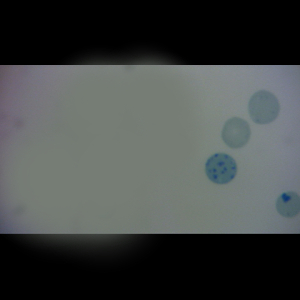aggregate reticulocyte: (204, 152, 239, 186)
erythrocyte: (220, 115, 253, 151), (274, 190, 300, 219)
punctate reticulocyte: (247, 89, 282, 126)
